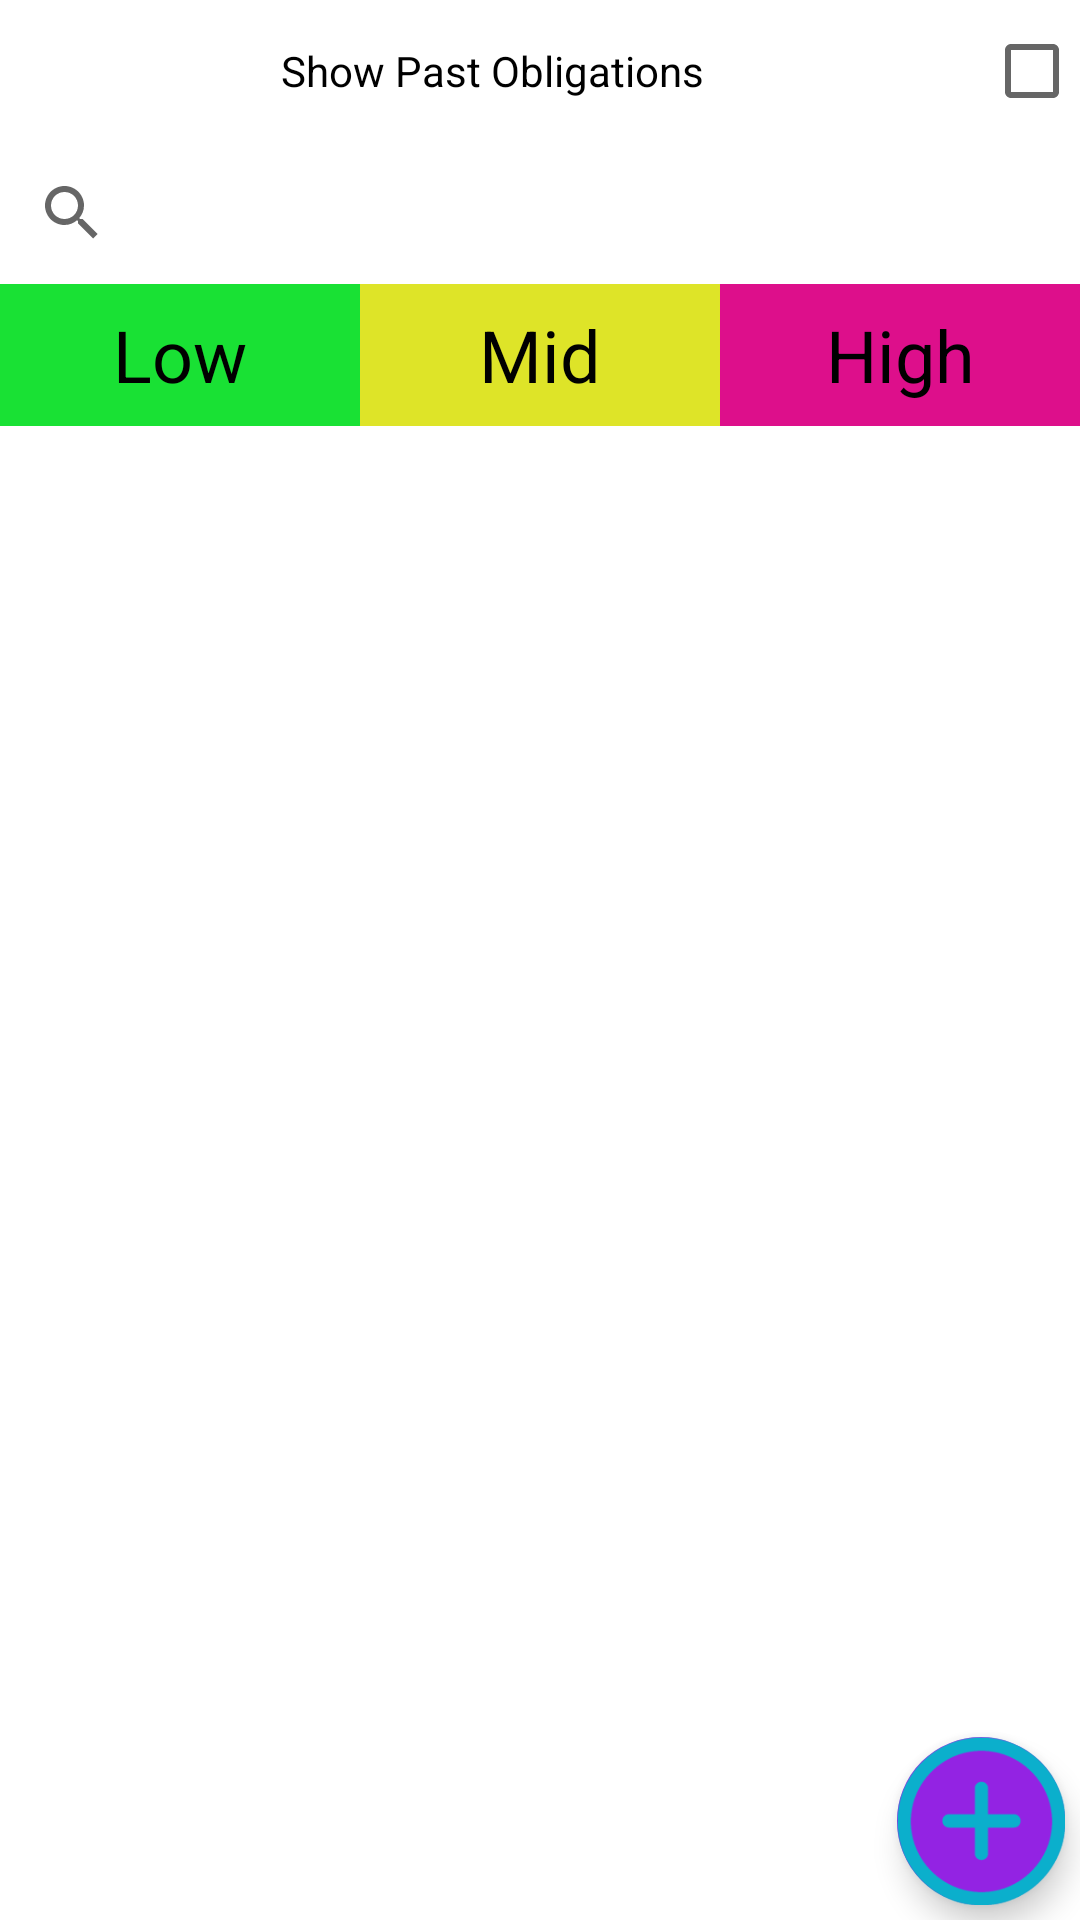

Icon bounding boxes for this 1080×1920 phone screenshot, format (x1, y1, x2, y2):
add: (897, 1737, 1065, 1905)
